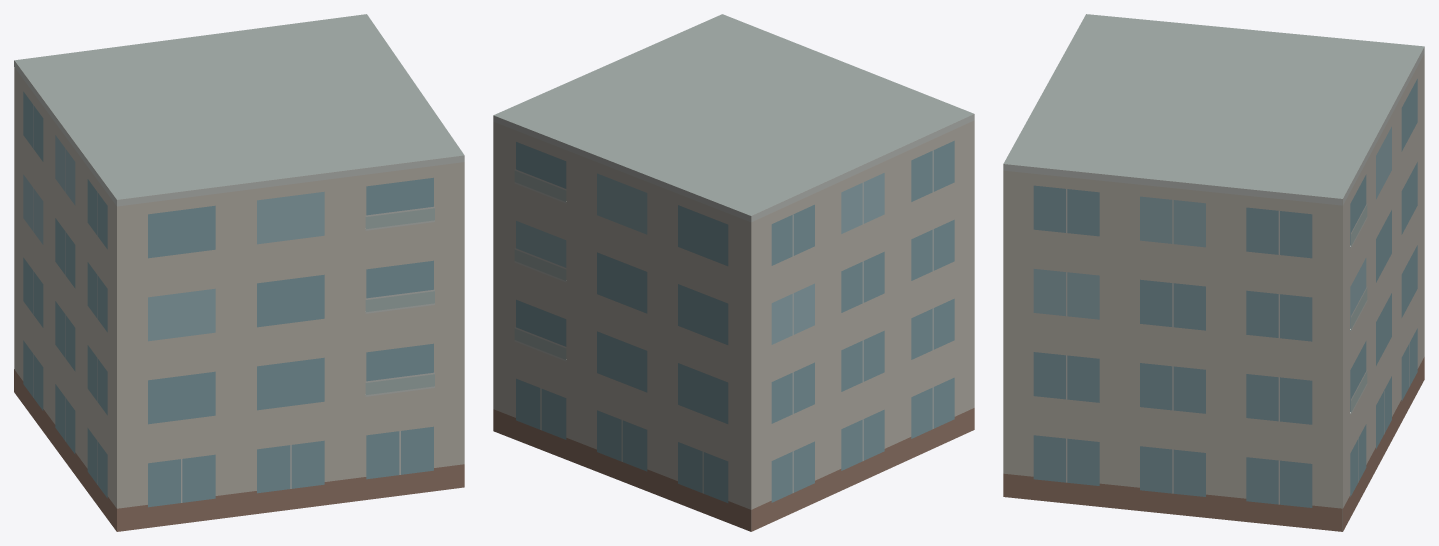
File: residential-92ad8064-941a-4bf6-a55b-b301d0c261e7.glb
3 renders of one model, left to right at view 1: azimuth 30°, elevation 25°; view 2: azimuth 150°, elevation 25°; view 3: azimuth 270°, elevation 25°, orthographic. The views are drawn at different scales.
Visible parts, largest first — view 1: residential-92ad8064-941a-4bf6-a55b-b301d0c261e7.tmp; view 2: residential-92ad8064-941a-4bf6-a55b-b301d0c261e7.tmp; view 3: residential-92ad8064-941a-4bf6-a55b-b301d0c261e7.tmp.
Boxes of the visible parts, x1,y1,x2,y2 form: residential-92ad8064-941a-4bf6-a55b-b301d0c261e7.tmp: (14, 14, 464, 531); residential-92ad8064-941a-4bf6-a55b-b301d0c261e7.tmp: (493, 14, 974, 531); residential-92ad8064-941a-4bf6-a55b-b301d0c261e7.tmp: (1003, 14, 1424, 531).
Bounding box in the file's own units: 14.55 × 12.2 × 14.
